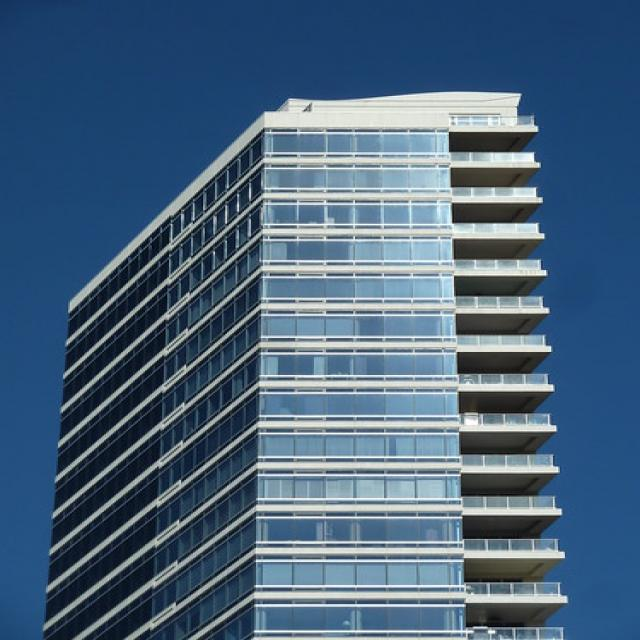Normal_building: (39, 83, 574, 640)
